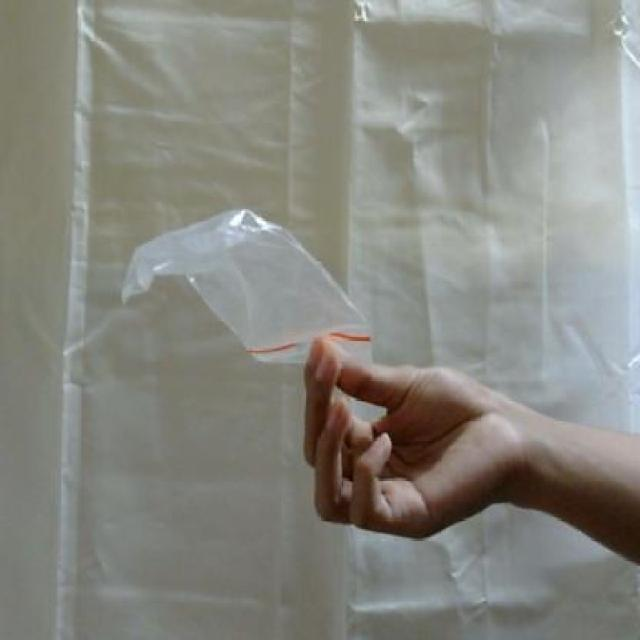Plastic: (119, 204, 372, 367)
